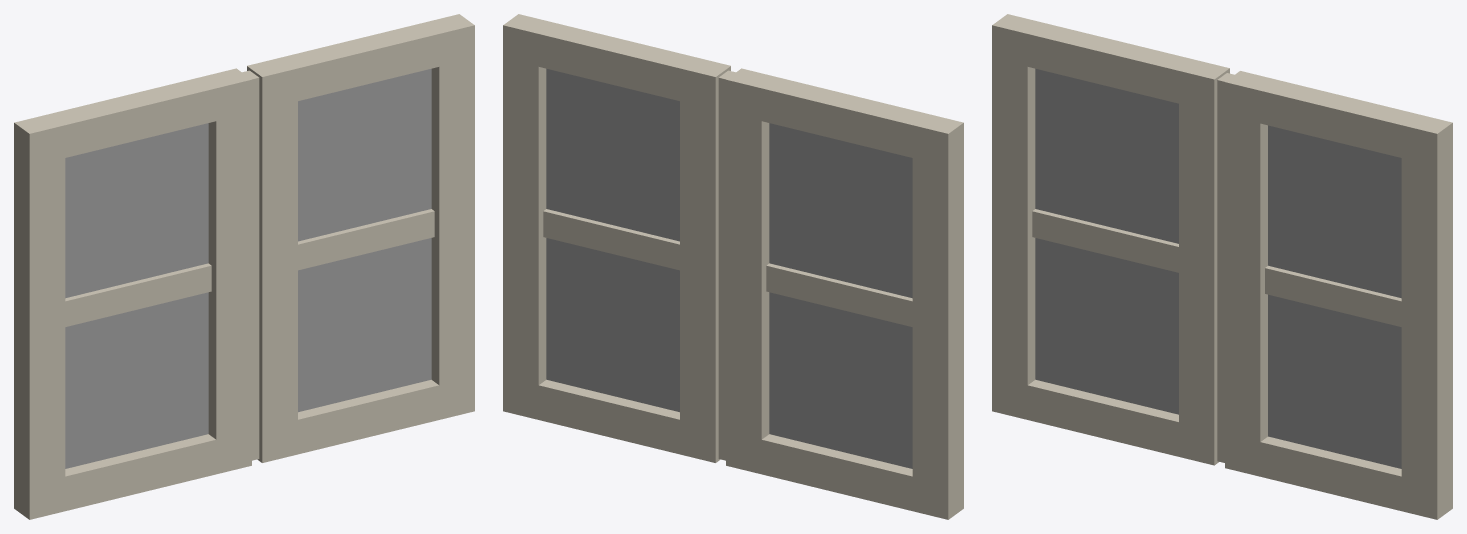
File: Window_4A.fbx
3 views of the same model, side by side, from view 1: azimuth 30°, elevation 25°; view 2: azimuth 150°, elevation 25°; view 3: azimuth 330°, elevation 25° (orthographic).
Parts seen in each view (by area): view 1: polySurface2314, Window_Glass6; view 2: polySurface2314, Window_Glass6; view 3: polySurface2314, Window_Glass6.
Boxes of the visible parts, x1,y1,x2,y2 form: polySurface2314: (14, 14, 474, 519); Window_Glass6: (65, 68, 431, 468); polySurface2314: (503, 14, 963, 519); Window_Glass6: (546, 68, 912, 468); polySurface2314: (992, 14, 1452, 519); Window_Glass6: (1035, 68, 1401, 468).
Size of the model in its own units: 2.5 by 2.07 by 0.15.
2 materials, 1 textured.
